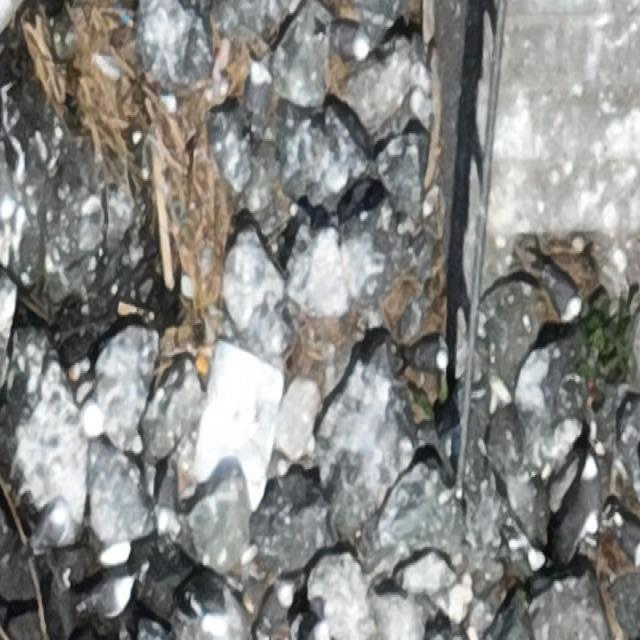umineko: (319, 16, 372, 61), (260, 582, 294, 635), (88, 578, 132, 617), (248, 58, 271, 132), (414, 337, 447, 381), (548, 275, 581, 318), (584, 458, 600, 540)
